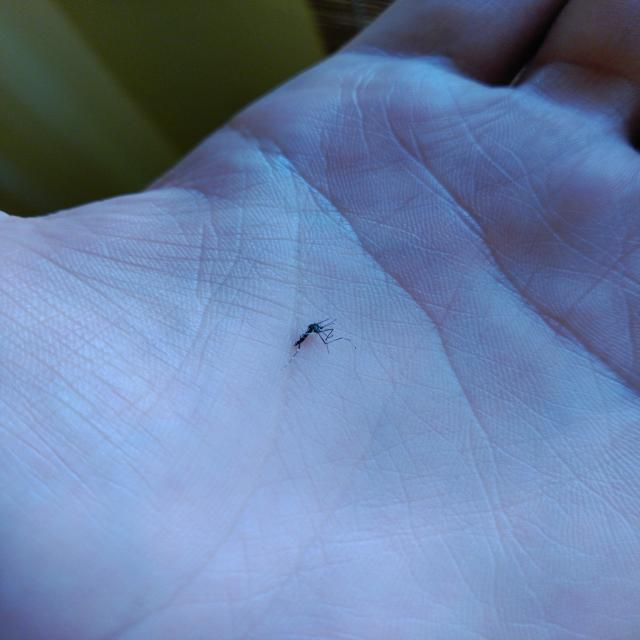albopictus: (274, 310, 364, 372)
